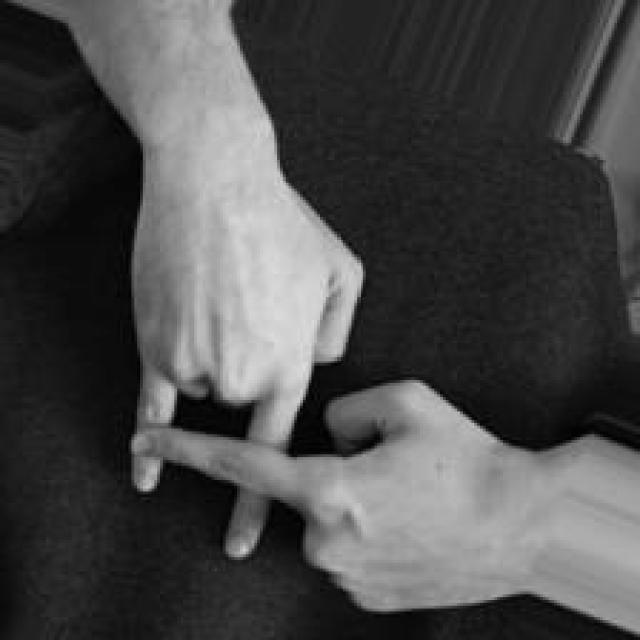H: (128, 216, 520, 612)
